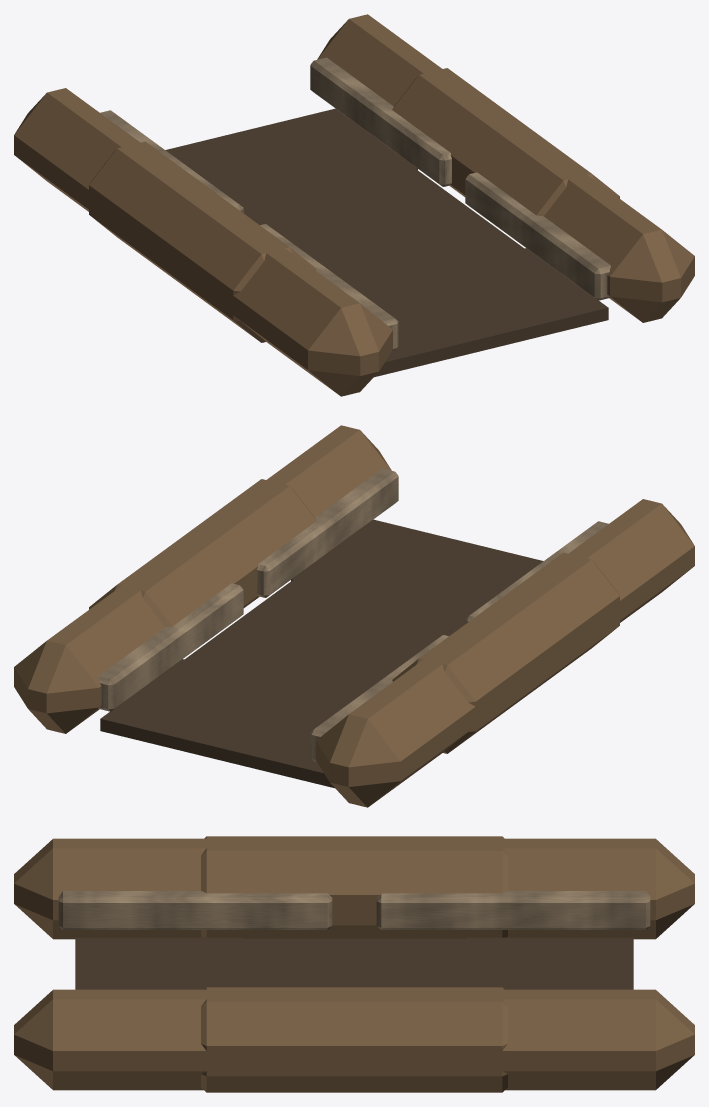
Rendered from trench_straight.glb.
The picture shows the model from 3 angles, top to bottom: view 1: azimuth 30°, elevation 25°; view 2: azimuth 150°, elevation 25°; view 3: azimuth 270°, elevation 25°; orthographic projection. The views are drawn at different scales.
Visible parts, largest first — view 1: trench_straight__Earth_revetment, trench_straight__Trench_dark_earth, trench_straight__Timber_worn_edges; view 2: trench_straight__Earth_revetment, trench_straight__Trench_dark_earth, trench_straight__Timber_worn_edges; view 3: trench_straight__Earth_revetment, trench_straight__Trench_dark_earth, trench_straight__Timber_worn_edges.
Part boxes in pixels (x1=…): trench_straight__Earth_revetment: x1=14, y1=14, x2=694, y2=396; trench_straight__Trench_dark_earth: x1=165, y1=108, x2=608, y2=377; trench_straight__Timber_worn_edges: x1=100, y1=57, x2=610, y2=350; trench_straight__Earth_revetment: x1=14, y1=425, x2=694, y2=807; trench_straight__Trench_dark_earth: x1=100, y1=519, x2=543, y2=788; trench_straight__Timber_worn_edges: x1=98, y1=468, x2=608, y2=761; trench_straight__Earth_revetment: x1=14, y1=836, x2=694, y2=1092; trench_straight__Trench_dark_earth: x1=75, y1=937, x2=633, y2=989; trench_straight__Timber_worn_edges: x1=58, y1=891, x2=650, y2=929.
Bounding box in the file's own units: 0.82 × 0.18 × 1.22.
Materials: 3 (1 with a texture image).
